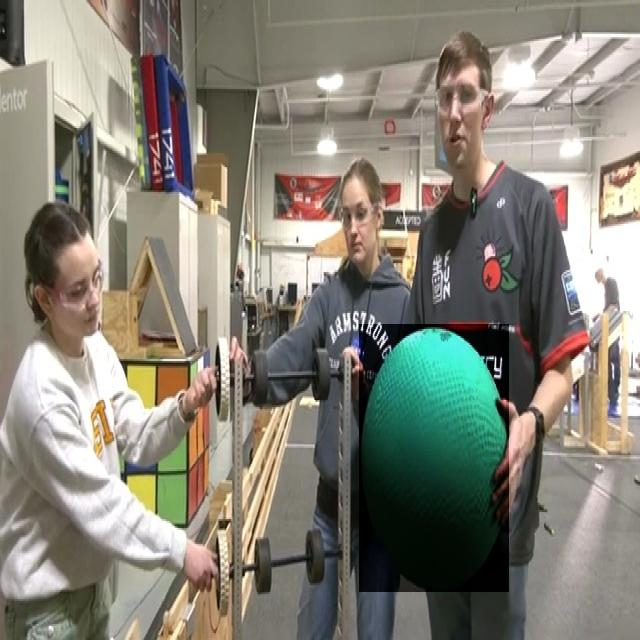Algae: (359, 324, 509, 592)
